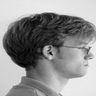ear: (40, 42, 58, 63)
